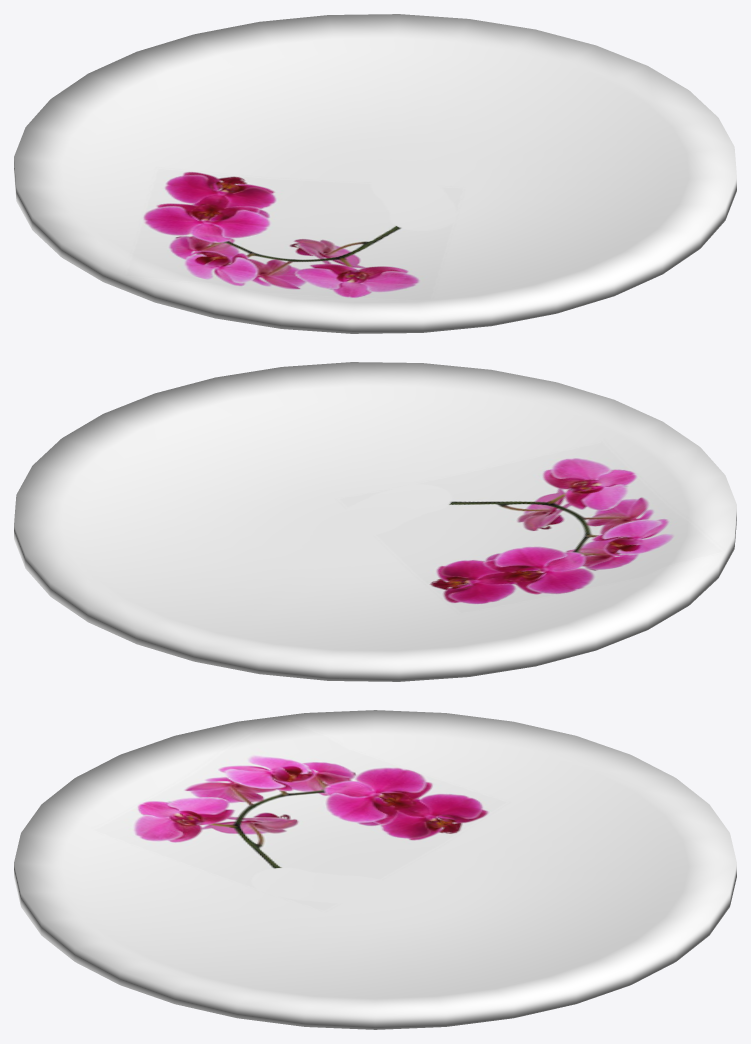
Rendered from set de 6 puestos plato pando.dae.
3 renders of one model, top to bottom at view 1: azimuth 30°, elevation 25°; view 2: azimuth 150°, elevation 25°; view 3: azimuth 270°, elevation 25°, orthographic.
Visible parts, largest first — view 1: plato_pando; view 2: plato_pando; view 3: plato_pando.
Part boxes in pixels (x1,y1,x2,y2): plato_pando: [14, 14, 736, 333]; plato_pando: [14, 362, 736, 681]; plato_pando: [14, 710, 736, 1029].
Size of the model in its own units: 22.41 by 22.41 by 1.71.
1 material, 1 textured.
